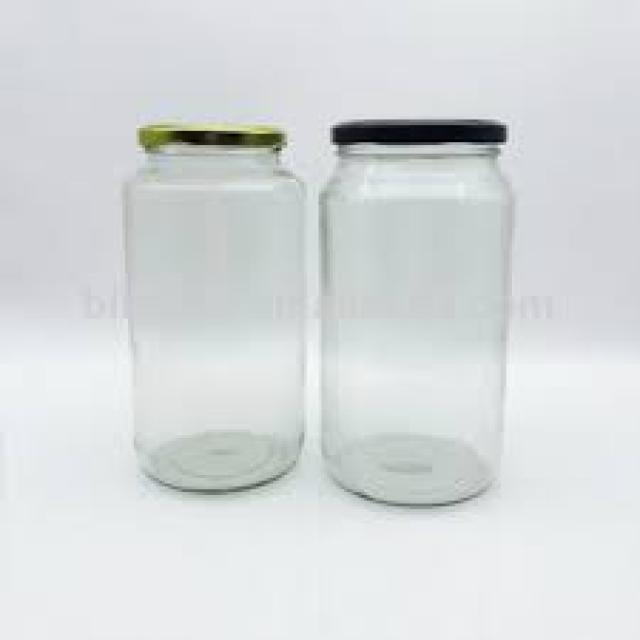glass: (313, 140, 512, 501), (122, 145, 299, 492)
metal: (330, 117, 506, 142), (134, 122, 282, 148)
